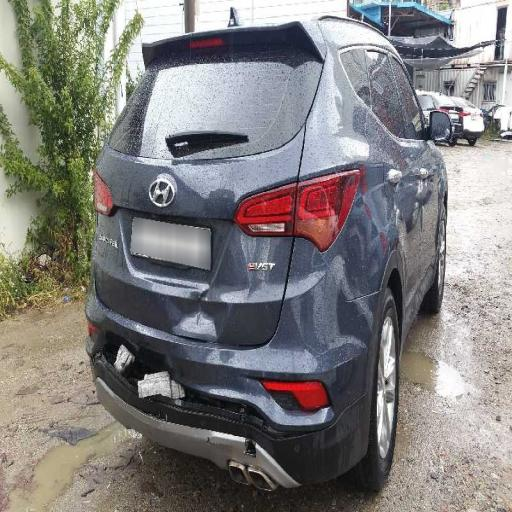broken: (83, 282, 233, 469)
scratch: (222, 211, 308, 310)
